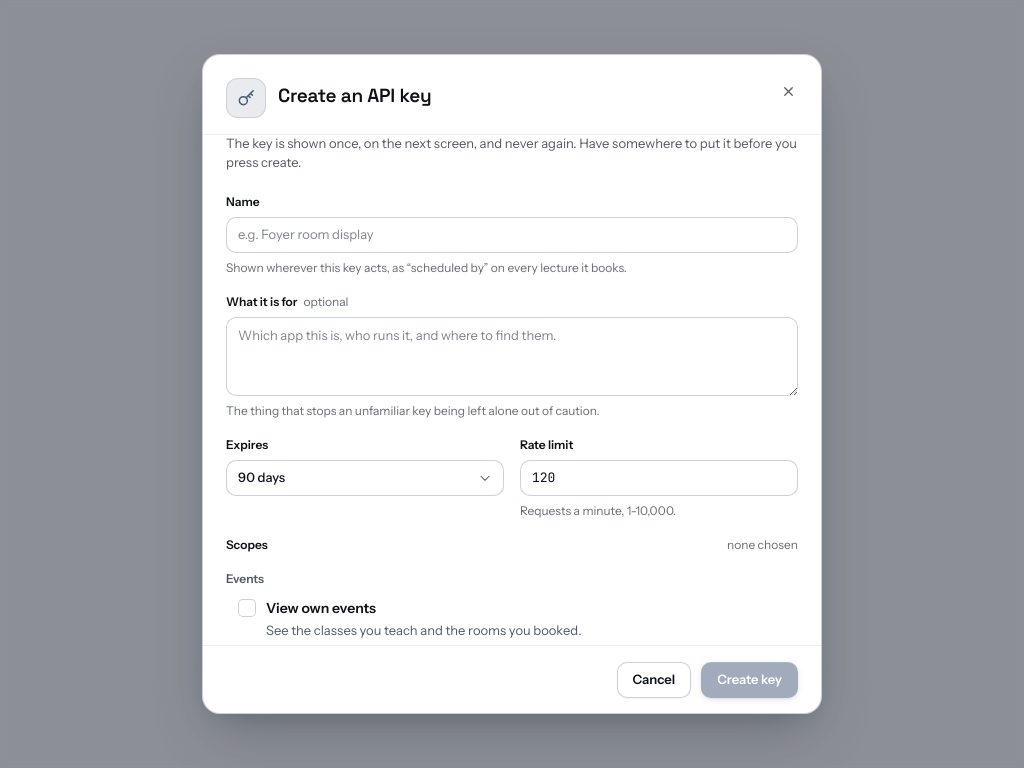
Test case: minting a key › offers no way to leave the expiry alone, because there is nothing to leave
Click the button named "Expires" at (262, 477), box x1=226 y1=460 x2=504 y2=496
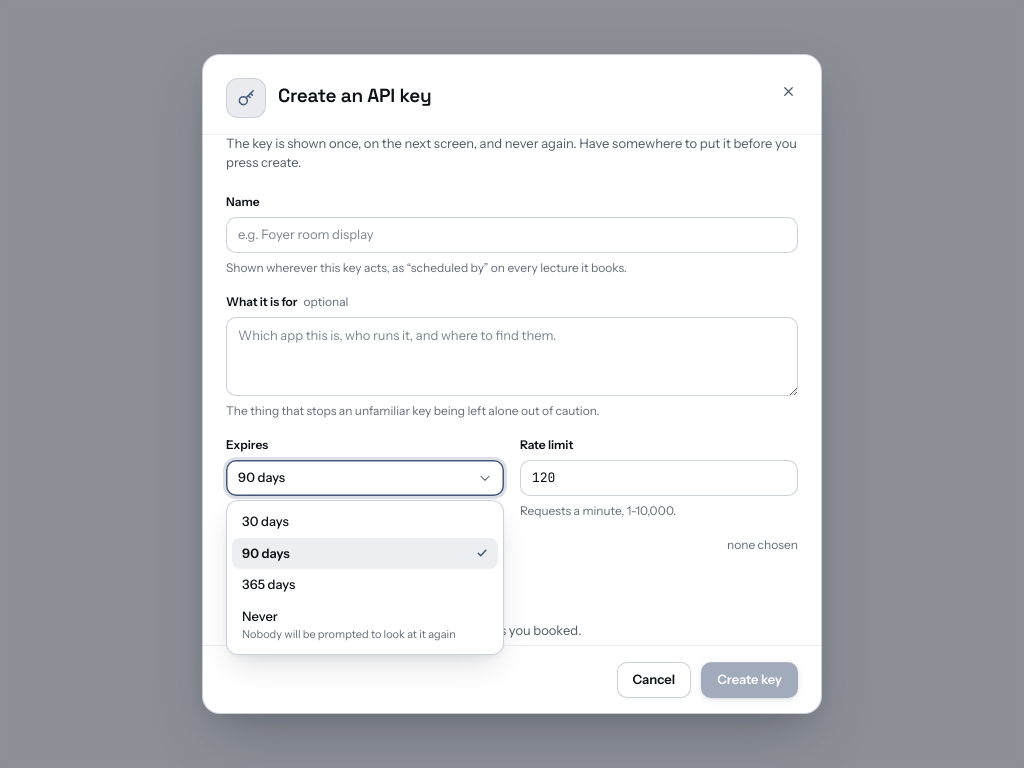
Expected: the options read "30 days", "90 days", "365 days", "NeverNobody will be prompted to look at it again", in this order, x1=242 y1=513 x2=289 y2=529; x1=232 y1=538 x2=498 y2=569; x1=242 y1=576 x2=295 y2=592; x1=242 y1=608 x2=456 y2=641
